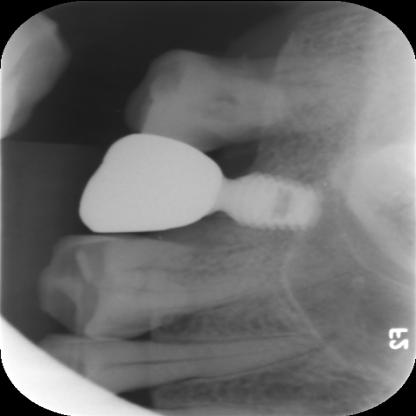Bicon: (221, 158, 322, 237)
